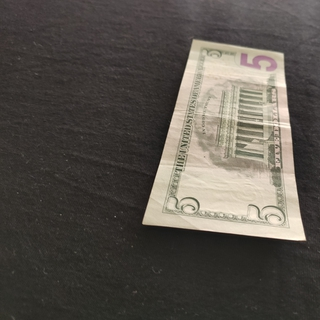5USDBack: (140, 38, 307, 242)
